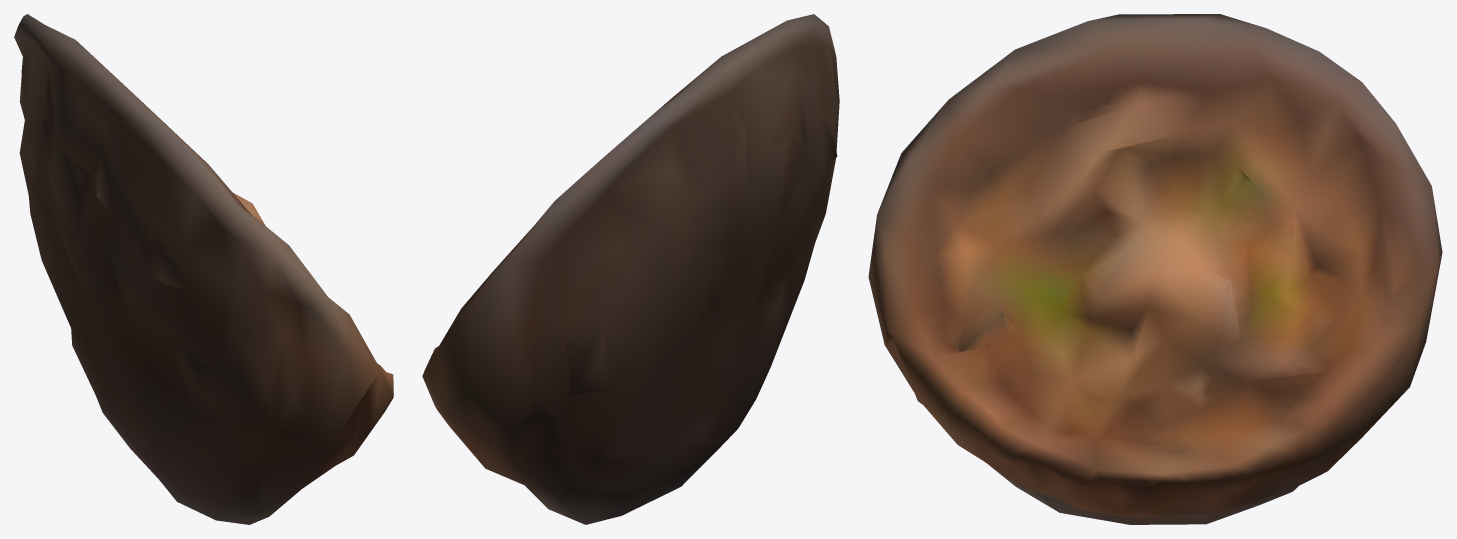
The model's file is dish_hollowcap_stew.glb.
3 renders of one model, left to right at view 1: azimuth 30°, elevation 25°; view 2: azimuth 150°, elevation 25°; view 3: azimuth 270°, elevation 25°, orthographic. The views are drawn at different scales.
Parts seen in each view (by area): view 1: model; view 2: model; view 3: model.
Part boxes in pixels (x1,y1,x2,y2): model: (14,14,393,524); model: (422,14,839,524); model: (868,14,1442,524).
Bounding box in the file's own units: 0.214 × 0.3476 × 0.4006.
Materials: 1 (1 with a texture image).
